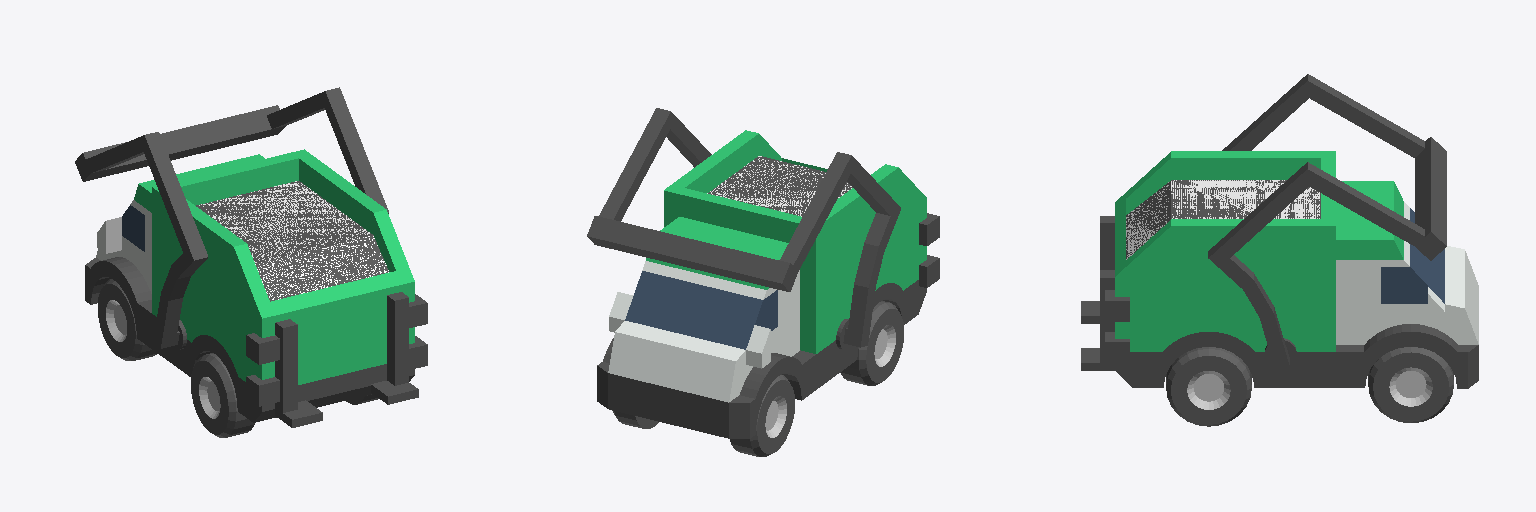
File: carGarbage.obj
3 renders of one model, left to right at view 1: azimuth 30°, elevation 25°; view 2: azimuth 150°, elevation 25°; view 3: azimuth 270°, elevation 25°, orthographic.
Parts seen in each view (by area): view 1: body 3, arm, bar 1, bar, wheelBackLeft 3, wheelFrontLeft 3; view 2: body 3, arm, wheelBackLeft 3, wheelFrontLeft 3, bar 1; view 3: body 3, arm, wheelBackRight 3, wheelFrontRight 3, bar, bar 1.
Part boxes in pixels (x1,y1,x2,y2): body 3: (85,149,414,422); arm: (75,87,388,349); bar 1: (246,319,322,427); bar: (371,292,427,404); wheelBackLeft 3: (191,353,254,437); wheelFrontLeft 3: (98,279,157,360); body 3: (597,130,926,438); arm: (587,108,900,349); wheelBackLeft 3: (840,301,903,385); wheelFrontLeft 3: (730,375,794,456); bar 1: (919,213,939,287); body 3: (1115,151,1478,388); arm: (1208,74,1446,370); wheelBackRight 3: (1166,347,1251,426); wheelFrontRight 3: (1368,347,1453,422); bar: (1081,270,1129,370); bar 1: (1081,216,1114,323).
Size of the model in its own units: 11.76 by 15.49 by 20.72.